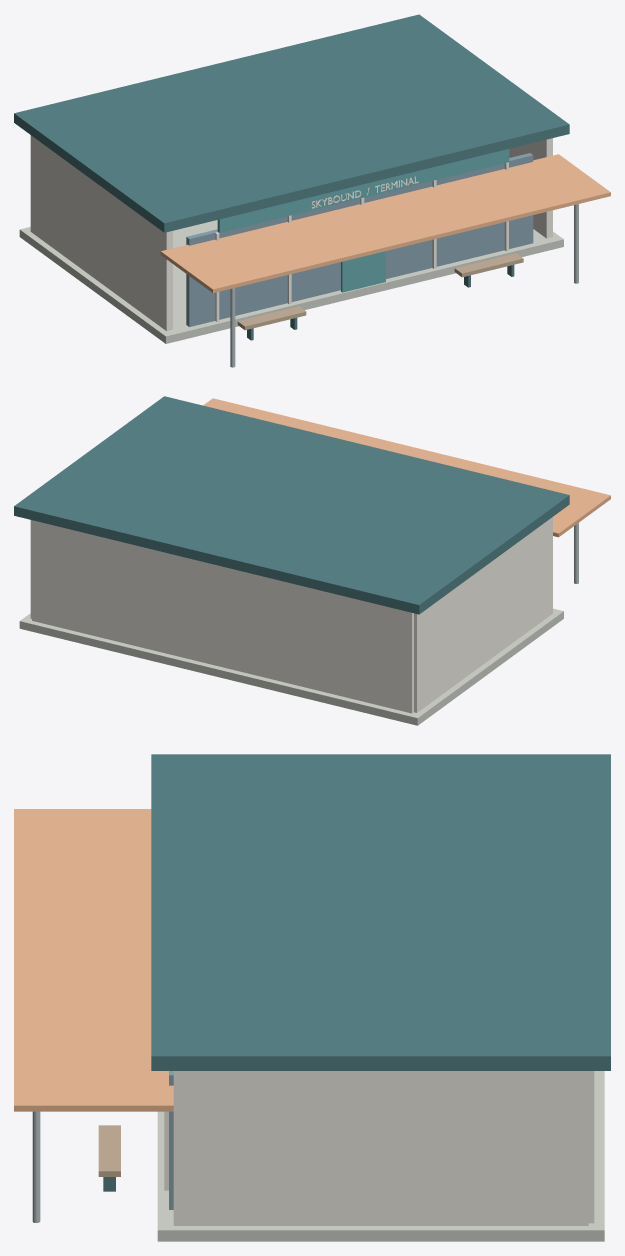
Rendered from branch_terminal.glb.
The picture shows the model from 3 angles, top to bottom: view 1: azimuth 30°, elevation 25°; view 2: azimuth 150°, elevation 25°; view 3: azimuth 270°, elevation 25°; orthographic projection. The views are drawn at different scales.
Parts seen in each view (by area): view 1: branch_terminal__roof, branch_terminal__awning, branch_terminal__side_wall, branch_terminal__front_glazing, branch_terminal__foundation, branch_terminal__terminal_sign, branch_terminal__door, branch_terminal__side_wall.001, branch_terminal__bench.001, branch_terminal__bench; view 2: branch_terminal__roof, branch_terminal__rear_wall, branch_terminal__side_wall, branch_terminal__foundation, branch_terminal__awning; view 3: branch_terminal__roof, branch_terminal__side_wall.001, branch_terminal__awning, branch_terminal__foundation, branch_terminal__bench.001, branch_terminal__rear_wall, branch_terminal__awning_post.001.
Part boxes in pixels (left/top/right/bottom): branch_terminal__roof: left=14, top=14, right=569, bottom=232; branch_terminal__awning: left=160, top=154, right=610, bottom=292; branch_terminal__side_wall: left=30, top=135, right=172, bottom=331; branch_terminal__front_glazing: left=186, top=153, right=533, bottom=326; branch_terminal__foundation: left=19, top=220, right=563, bottom=343; branch_terminal__terminal_sign: left=217, top=149, right=509, bottom=232; branch_terminal__door: left=341, top=251, right=385, bottom=292; branch_terminal__side_wall.001: left=509, top=138, right=552, bottom=238; branch_terminal__bench.001: left=454, top=253, right=523, bottom=277; branch_terminal__bench: left=237, top=306, right=306, bottom=330; branch_terminal__roof: left=14, top=396, right=569, bottom=614; branch_terminal__rear_wall: left=32, top=520, right=413, bottom=713; branch_terminal__side_wall: left=414, top=517, right=552, bottom=712; branch_terminal__foundation: left=19, top=608, right=563, bottom=725; branch_terminal__awning: left=203, top=398, right=610, bottom=537; branch_terminal__roof: left=151, top=754, right=610, bottom=1070; branch_terminal__side_wall.001: left=173, top=1071, right=588, bottom=1225; branch_terminal__awning: left=14, top=809, right=173, bottom=1111; branch_terminal__foundation: left=157, top=1071, right=604, bottom=1241; branch_terminal__bench.001: left=98, top=1125, right=120, bottom=1176; branch_terminal__rear_wall: left=588, top=1071, right=594, bottom=1223; branch_terminal__awning_post.001: left=32, top=1111, right=40, bottom=1222.
Bounding box in the file's own units: 22.4 × 6.5 × 18.7.
